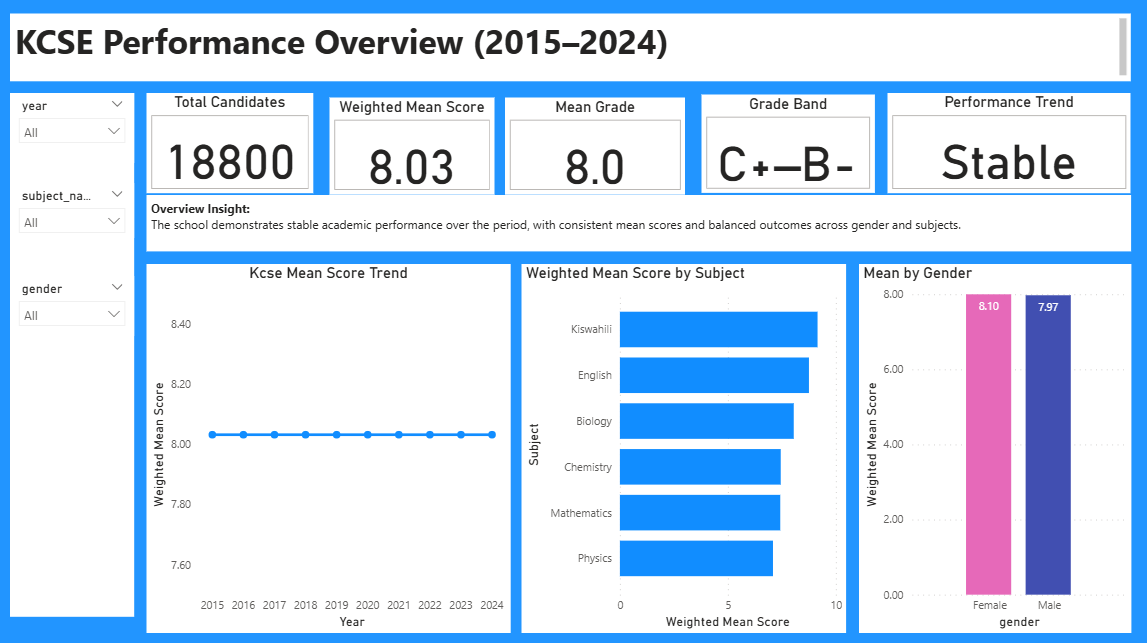

The dashboard page shown, as its layout file describes it:
{"tool":"powerbi","page":{"name":"Performance Overview","canvas":[1280,720],"ordinal":0},"visuals":[{"type":"textbox","box":[13.2,103.9,138,582.1],"z":0},{"type":"cardVisual","title":"Total Candidates","fields":{"Data":["dim_gender.Total Candidates"]},"box":[164.4,103.9,185.2,111.5],"z":1000},{"type":"textbox","box":[13.2,15.1,1245.4,75.6],"z":2000},{"type":"cardVisual","title":"Weighted Mean Score","fields":{"Data":["dim_gender.Weighted Mean Score"]},"box":[368.5,107.7,183.3,107.7],"z":3000},{"type":"cardVisual","title":"Mean Grade","fields":{"Data":["dim_gender.Weighted Mean Grade"]},"box":[563.2,107.7,200.3,107.7],"z":4000},{"type":"cardVisual","title":"Grade Band","fields":{"Data":["dim_gender.Grade Band"]},"box":[782.4,105.8,192.8,109.6],"z":5000},{"type":"cardVisual","title":"Performance Trend","fields":{"Data":["dim_gender.Performance Trend"]},"box":[988.4,103.9,270.2,111.5],"z":6000},{"type":"lineChart","title":"Kcse Mean Score Trend","fields":{"Y":["dim_gender.Weighted Mean Score"],"Category":["dim_date.Year"]},"box":[164.4,292.9,404.4,410.1],"z":7000},{"type":"clusteredBarChart","title":"Weighted Mean Score by Subject","fields":{"Category":["dim_subject.subject_name"],"Y":["dim_gender.Weighted Mean Score"]},"box":[582.1,292.9,360.9,410.1],"z":8000},{"type":"clusteredColumnChart","title":"Mean by Gender","fields":{"Category":["dim_gender.gender"],"Y":["dim_gender.Weighted Mean Score"]},"box":[956.2,292.9,302.4,410.1],"z":9000},{"type":"slicer","fields":{"Values":["dim_year.year"]},"box":[13.2,103.9,138,77.5],"z":10000},{"type":"slicer","fields":{"Values":["dim_subject.subject_name"]},"box":[13.2,204.1,138,60.5],"z":11000},{"type":"slicer","fields":{"Values":["dim_gender.gender"]},"box":[13.2,306.1,138,66.1],"z":12000},{"type":"textbox","box":[164.4,217.3,1094.2,62.4],"z":13000}]}

Visuals, with their boxes in screenshot pixels (x1, y1, x2, y2), scaled from the page's 1280x720 canvas onto the 1147x643 screenshot:
textbox: bbox=(12, 93, 135, 613)
"Total Candidates" cardVisual: bbox=(147, 93, 313, 192)
textbox: bbox=(12, 13, 1128, 81)
"Weighted Mean Score" cardVisual: bbox=(330, 96, 494, 192)
"Mean Grade" cardVisual: bbox=(505, 96, 684, 192)
"Grade Band" cardVisual: bbox=(701, 94, 874, 192)
"Performance Trend" cardVisual: bbox=(886, 93, 1128, 192)
"Kcse Mean Score Trend" lineChart: bbox=(147, 262, 510, 628)
"Weighted Mean Score by Subject" clusteredBarChart: bbox=(522, 262, 845, 628)
"Mean by Gender" clusteredColumnChart: bbox=(857, 262, 1128, 628)
slicer - dim_year.year: bbox=(12, 93, 135, 162)
slicer - dim_subject.subject_name: bbox=(12, 182, 135, 236)
slicer - dim_gender.gender: bbox=(12, 273, 135, 332)
textbox: bbox=(147, 194, 1128, 250)
